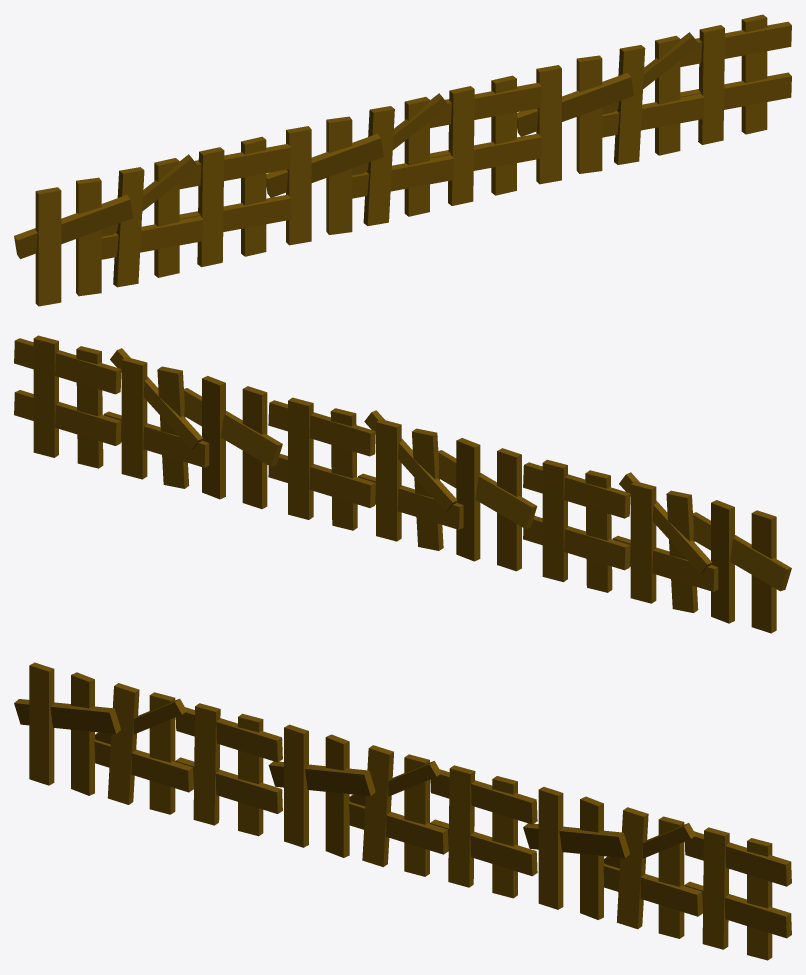
The model's file is cerca.fbx.
The picture shows the model from 3 angles, top to bottom: view 1: azimuth 30°, elevation 25°; view 2: azimuth 150°, elevation 25°; view 3: azimuth 330°, elevation 25°; orthographic projection.
Visible parts, largest first — view 1: pCube6, pCube2, pCube19, pCube30, pCube17, pCube28, pCube25, pCube4, pCube14, pCube12, pCube23, pCube5 (+21 smaller); view 2: pCube3, pCube24, pCube13, pCube1, pCube31, pCube20, pCube12, pCube5, pCube23, pCube6, pCube28, pCube27 (+21 smaller); view 3: pCube6, pCube28, pCube30, pCube2, pCube19, pCube17, pCube14, pCube4, pCube25, pCube12, pCube5, pCube23 (+21 smaller).
Boxes of the visible parts, x1,y1,x2,y2 form: pCube6: (35,187,61,306); pCube2: (197,147,224,267); pCube19: (448,86,474,205); pCube30: (698,25,724,144); pCube17: (286,126,311,245); pCube28: (536,65,561,184); pCube25: (614,45,645,164); pCube4: (113,167,144,287); pCube14: (363,106,394,225); pCube12: (326,116,352,234); pCube23: (576,55,602,173); pCube5: (76,177,101,296); pCube3: (630,481,656,603); pCube24: (121,357,147,479); pCube13: (376,419,401,541); pCube1: (542,459,567,582); pCube31: (33,335,58,457); pCube20: (288,397,313,519); pCube12: (456,438,480,561); pCube5: (711,500,734,623); pCube23: (202,376,225,499); pCube6: (751,510,776,633); pCube28: (242,386,267,508); pCube27: (14,338,121,394); pCube6: (29,662,54,785); pCube28: (538,787,563,909); pCube30: (702,827,729,949); pCube2: (193,703,220,825); pCube19: (448,765,475,887); pCube17: (284,724,308,847); pCube14: (362,745,393,867); pCube4: (107,683,139,804); pCube25: (616,807,648,929); pCube12: (325,734,349,857); pCube5: (71,672,94,795); pCube23: (580,796,603,919).
Size of the model in its own units: 36.55 by 5.33 by 1.27.
